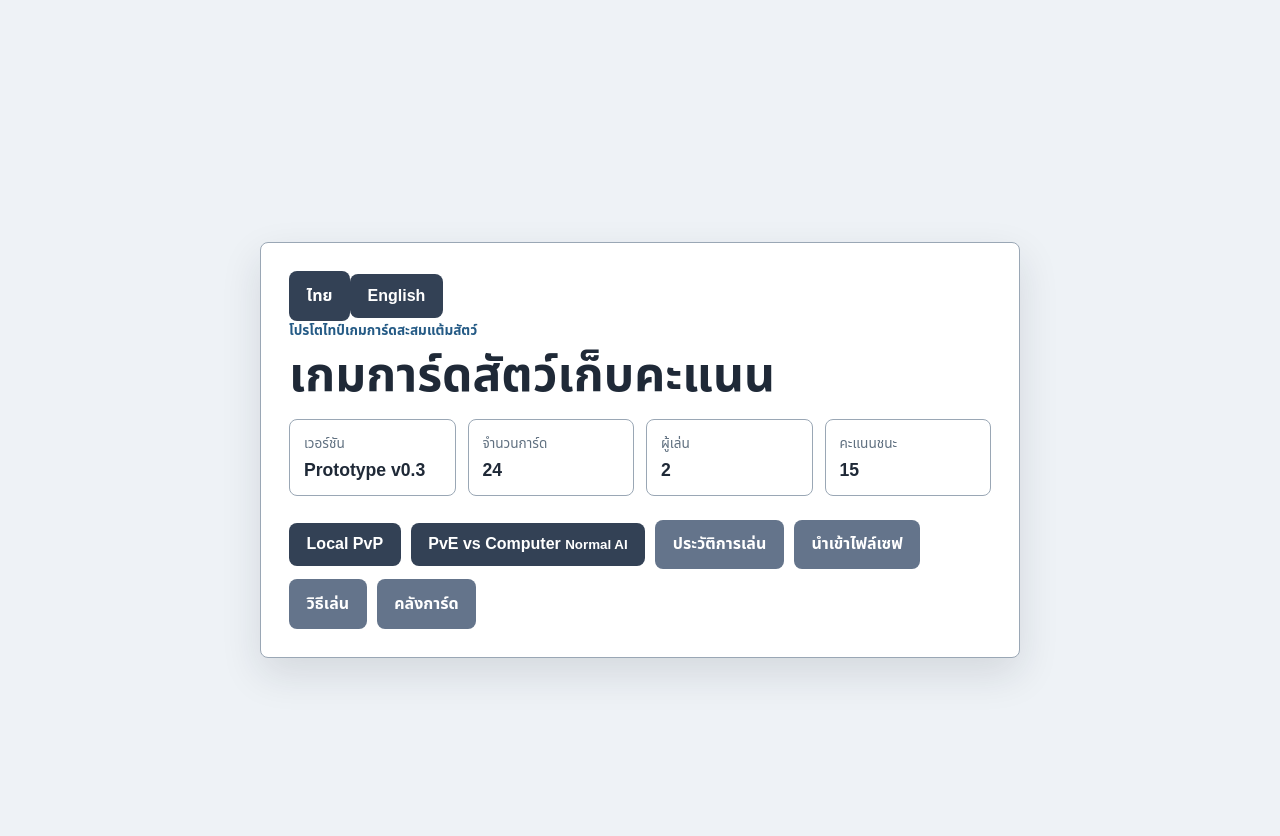
Test: App Phase 2C-1C-A player hand card localization › still allows direct Animal placement after localization
This screenshot has width=1280, height=836.
Click the button "Local PvP". click: (345, 544)
box: x1=289 y1=523 x2=401 y2=566
(page scrolled)
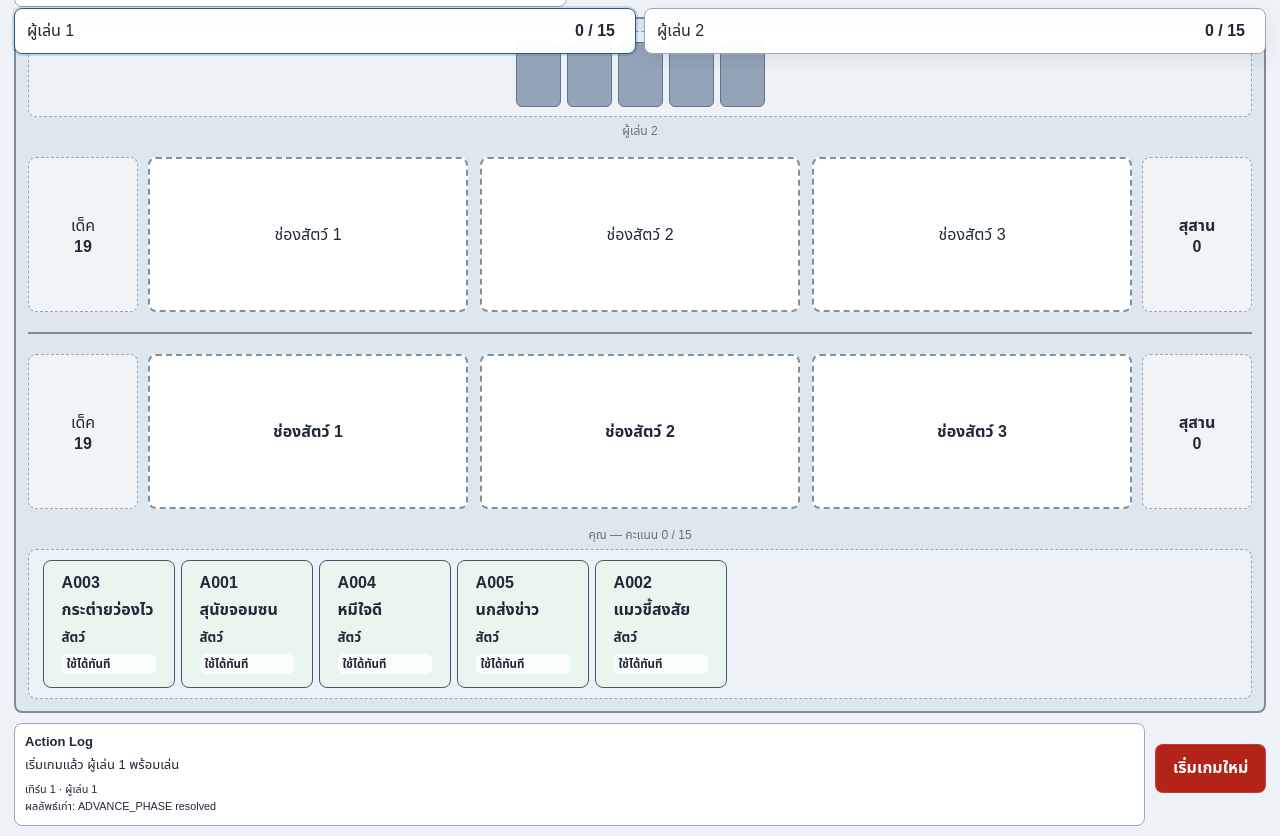
Click the button "A003 กระต่ายว่องไว สัตว์ ใช้ได้ทันที". click: (109, 624)
box: x1=43 y1=560 x2=175 y2=688
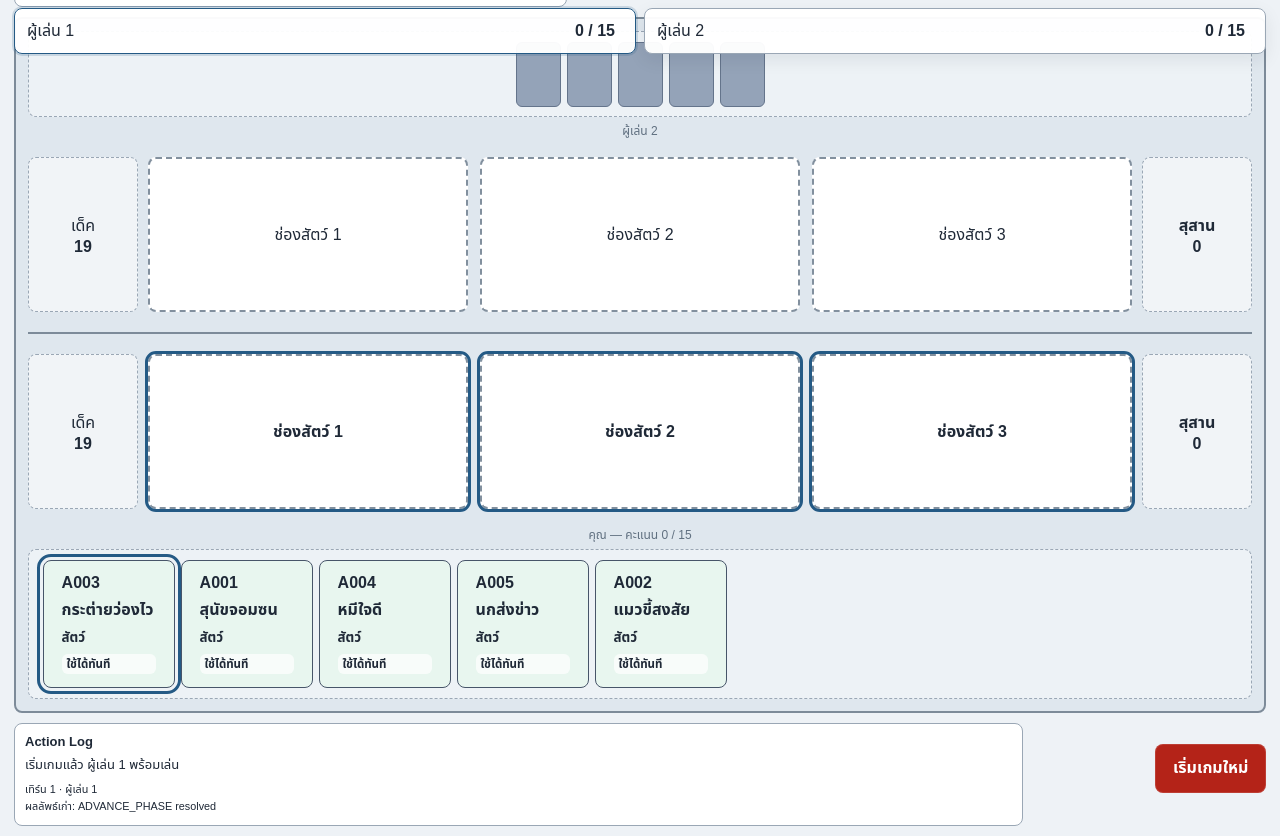
Click the button "ช่องสัตว์ 2". click: (640, 432)
box: x1=480 y1=354 x2=800 y2=509
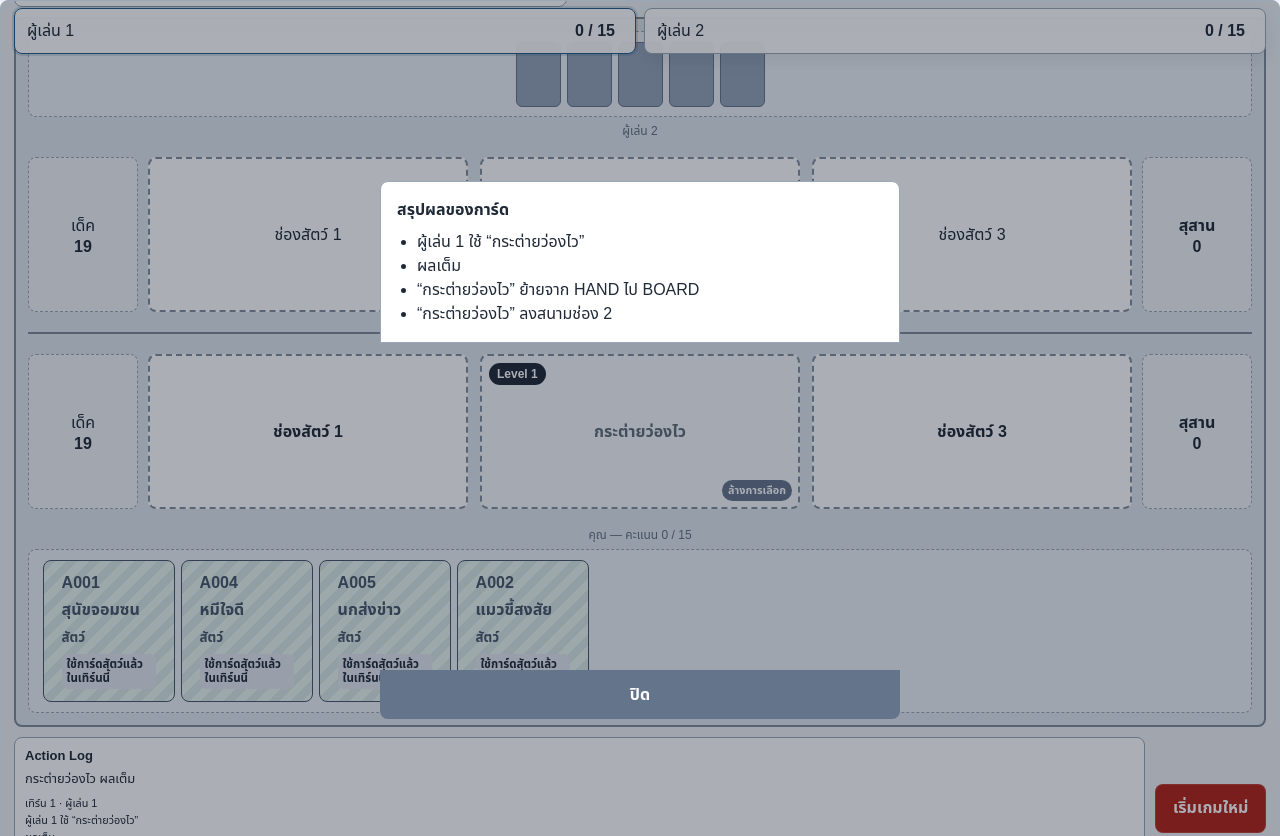
Check: the message labelled "สรุปผลของการ์ด" shows "ลงสนามช่อง 2", box x1=417 y1=305 x2=612 y2=322
